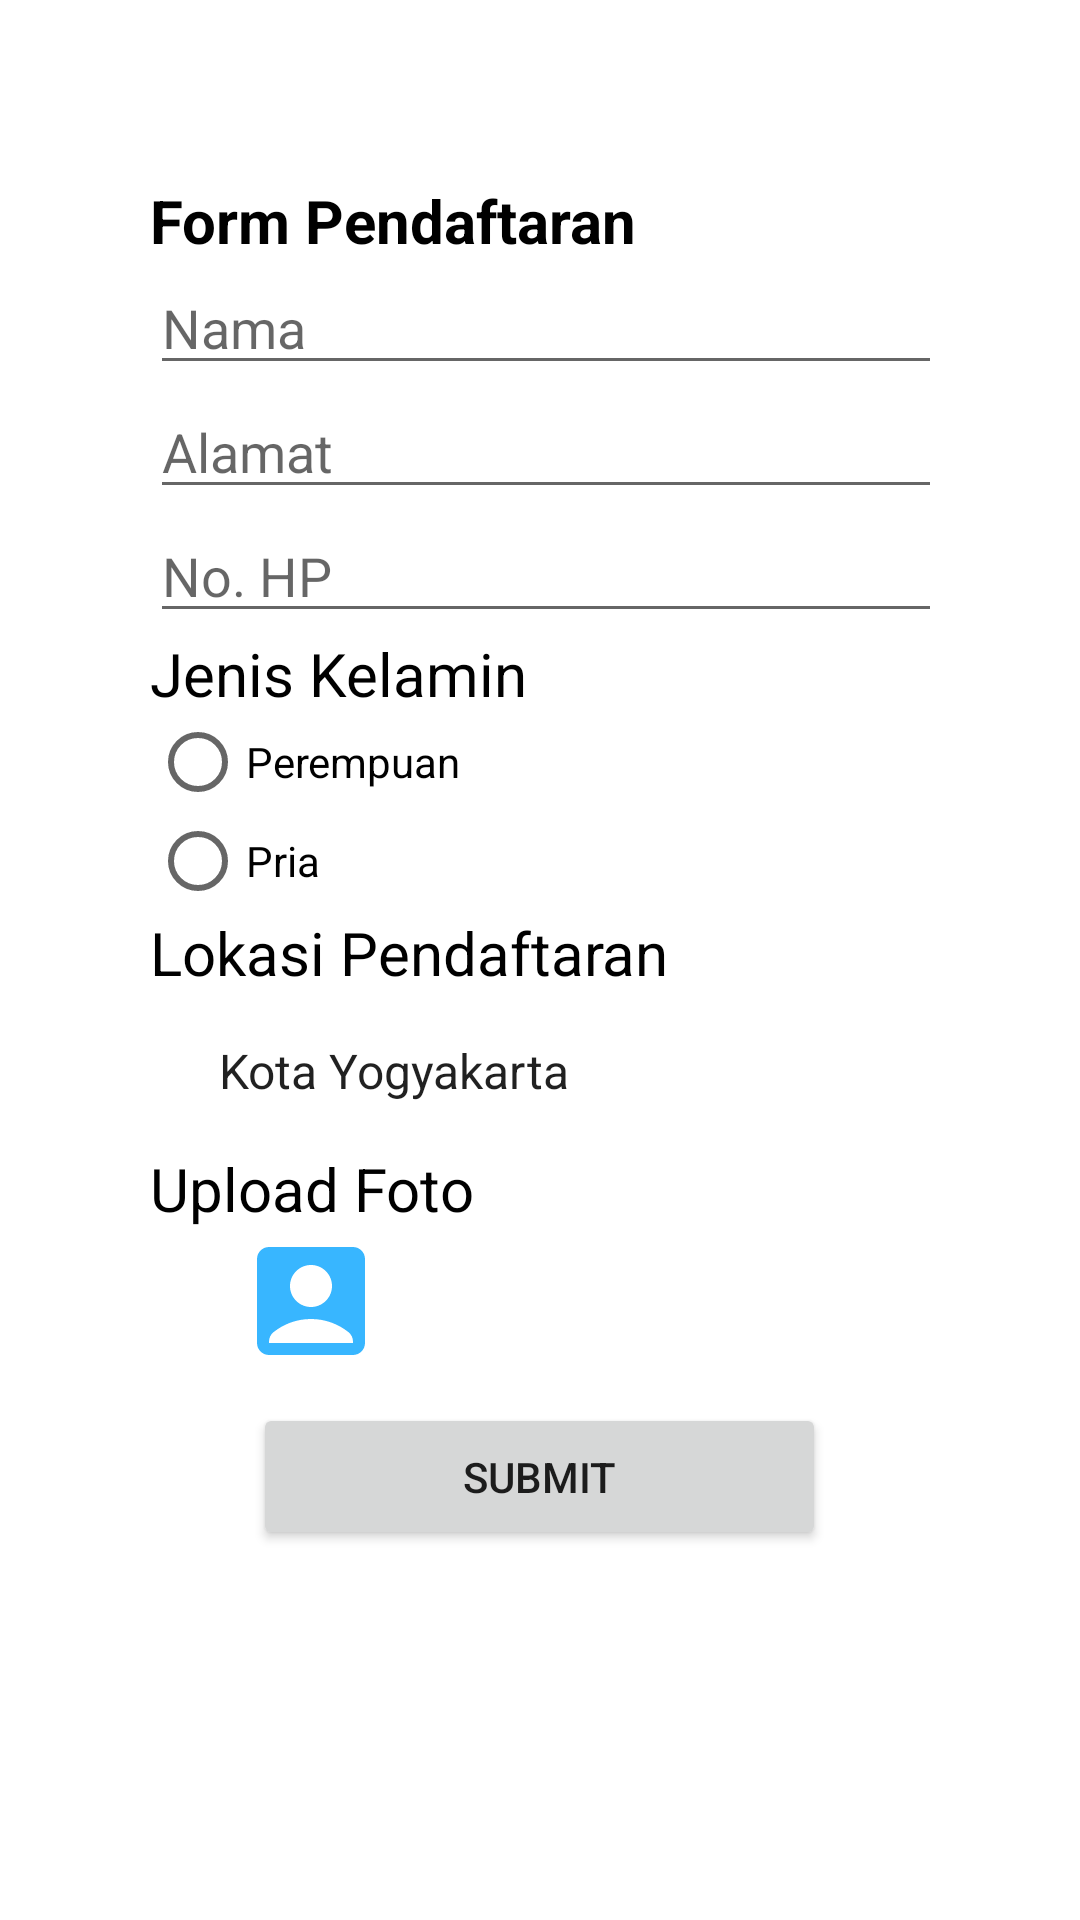

Where to tap for icons on this 1080px×1920px app screen, as (x=x, y=y):
account box: (x=311, y=1301)
